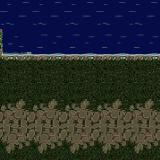Interaction: (0, 44, 160, 76)
Slow: (0, 0, 160, 53)
